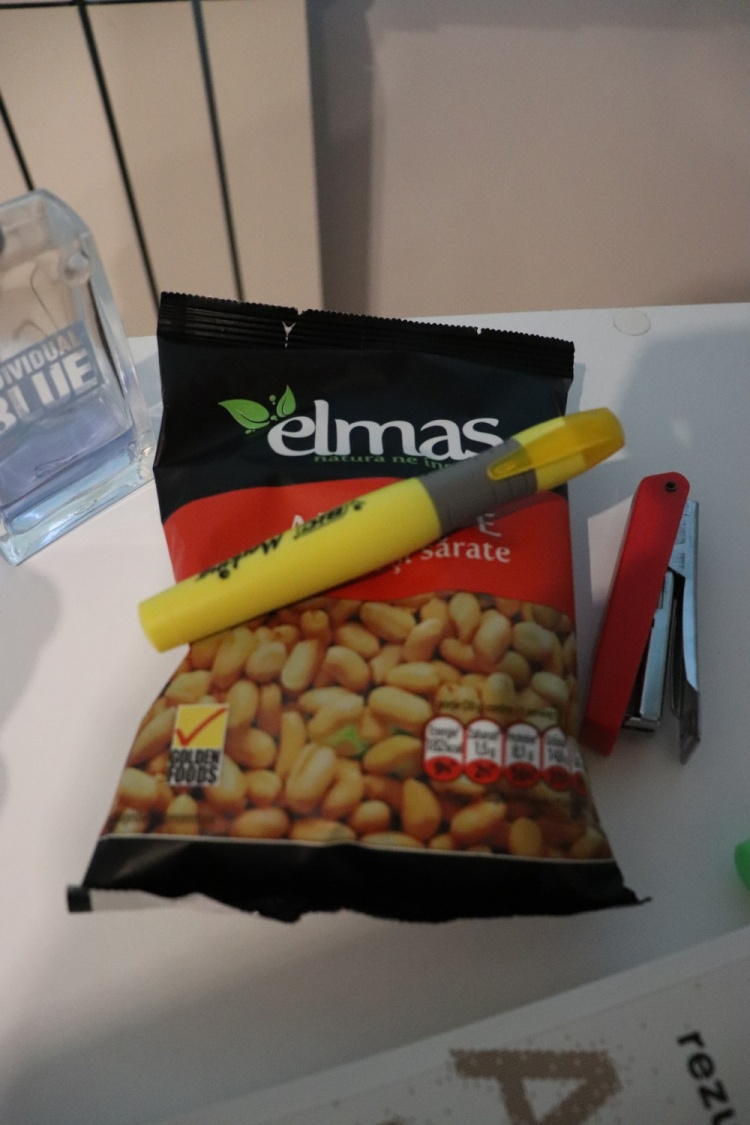peanuts: (88, 287, 658, 920)
